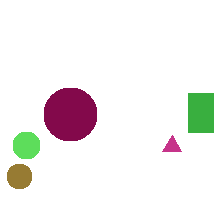circle: (44, 88, 96, 140), (13, 132, 39, 158), (7, 164, 31, 188)
rectangle: (188, 93, 213, 132)
triangle: (162, 135, 181, 151)
